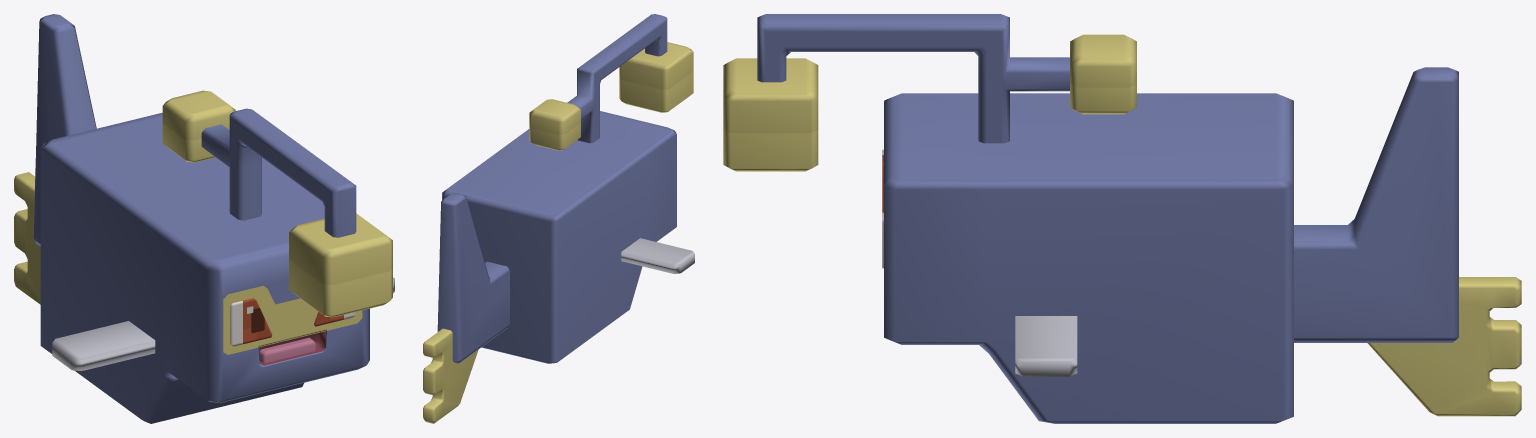
3 views of the same model, side by side, from view 1: azimuth 30°, elevation 25°; view 2: azimuth 150°, elevation 25°; view 3: azimuth 270°, elevation 25° (orthographic). The views are drawn at different scales.
Parts seen in each view (by area): view 1: model; view 2: model; view 3: model.
Boxes of the visible parts, x1,y1,x2,y2 form: model: [14, 14, 394, 423]; model: [423, 14, 694, 423]; model: [723, 14, 1521, 423].
Bounding box in the file's own units: 2.23 × 2.22 × 4.07.
